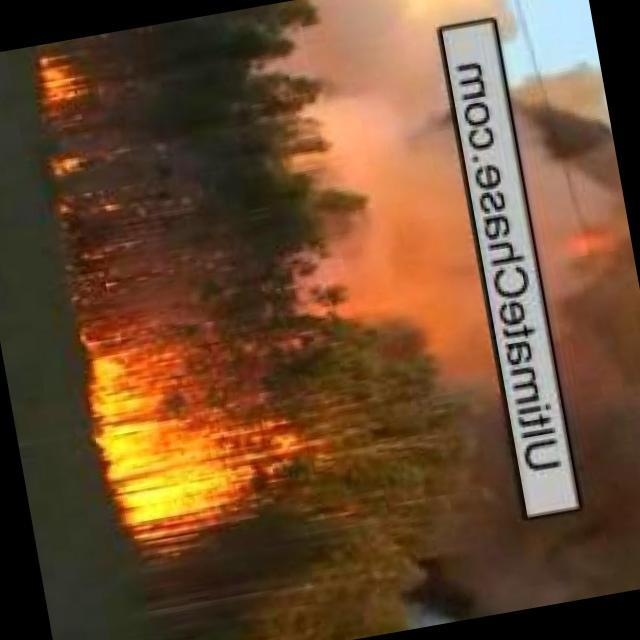Fire: (79, 310, 272, 552), (47, 146, 117, 219), (34, 46, 90, 113)
